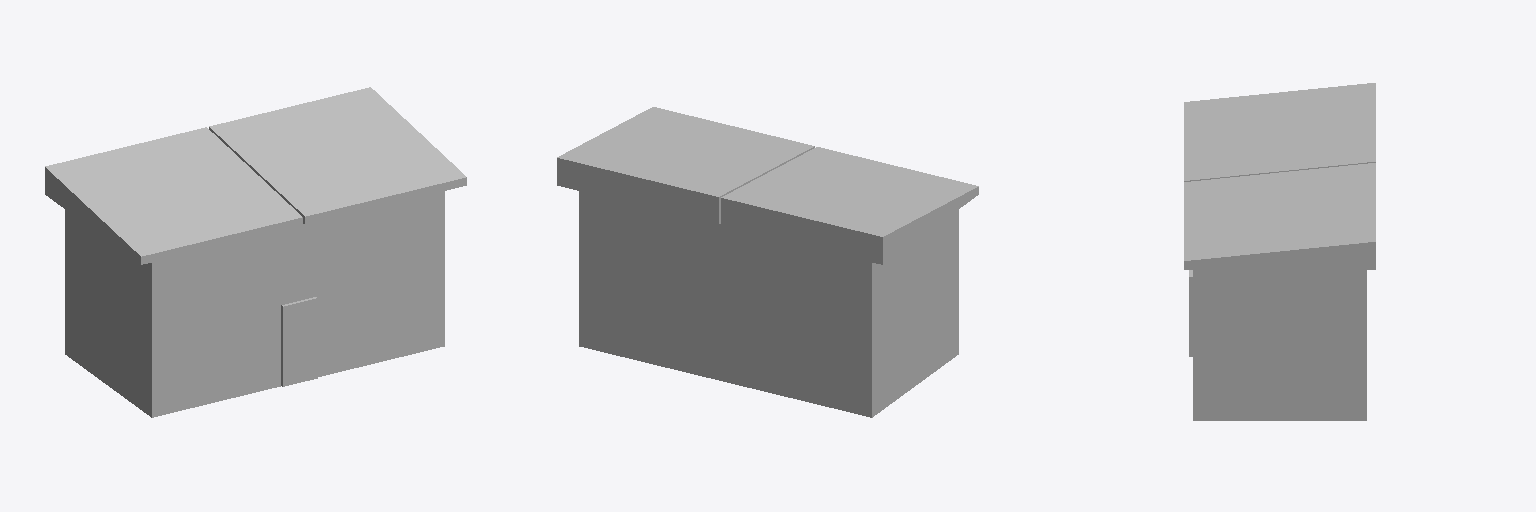
Rendered from Shed.obj.
3 views of the same model, side by side, from view 1: azimuth 30°, elevation 25°; view 2: azimuth 150°, elevation 25°; view 3: azimuth 270°, elevation 25° (orthographic).
Parts seen in each view (by area): view 1: pCube1, pCube2, pCube3, pCube4; view 2: pCube1, pCube2, pCube3; view 3: pCube1, pCube3, pCube2.
Boxes of the visible parts, box(x1,y1,x2,y2) form: pCube1: box(65, 191, 444, 417); pCube2: box(45, 127, 302, 264); pCube3: box(209, 87, 466, 224); pCube4: box(281, 297, 317, 386); pCube1: box(579, 191, 958, 417); pCube2: box(721, 147, 978, 264); pCube3: box(557, 107, 814, 224); pCube1: box(1193, 270, 1366, 420); pCube3: box(1184, 163, 1375, 269); pCube2: box(1184, 83, 1375, 181).
Size of the model in its own units: 9.47 by 5.21 by 4.85.